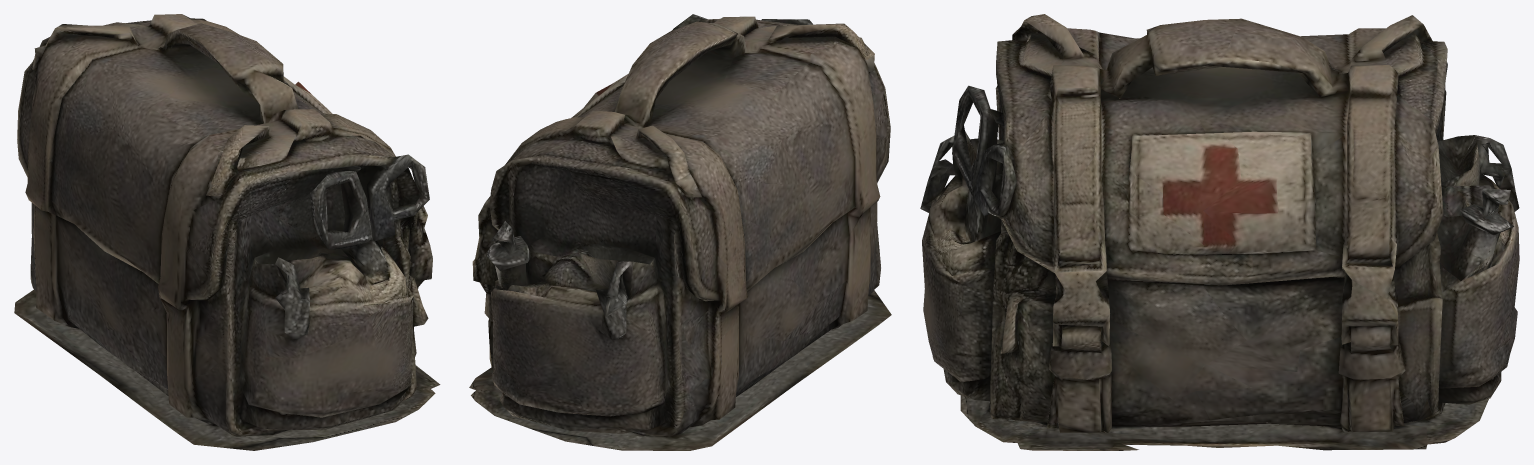
The model's file is medkit.fbx.
3 views of the same model, side by side, from view 1: azimuth 30°, elevation 25°; view 2: azimuth 150°, elevation 25°; view 3: azimuth 270°, elevation 25° (orthographic). The views are drawn at different scales.
Parts seen in each view (by area): view 1: tripo_node_8fd68ef2; view 2: tripo_node_8fd68ef2; view 3: tripo_node_8fd68ef2.
Boxes of the visible parts, x1,y1,x2,y2 form: tripo_node_8fd68ef2: (14,14,440,450); tripo_node_8fd68ef2: (469,14,891,450); tripo_node_8fd68ef2: (920,14,1519,450).
Size of the model in its own units: 0.5535 by 0.6418 by 0.9827.
